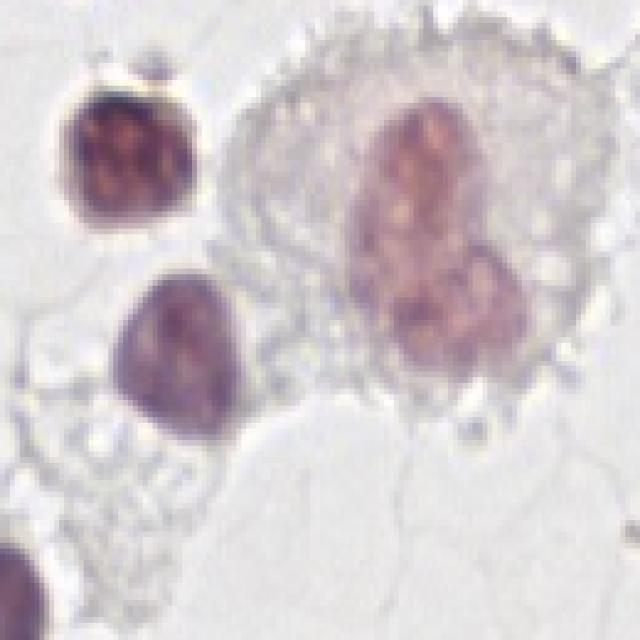nucleus: (301, 86, 537, 404)
